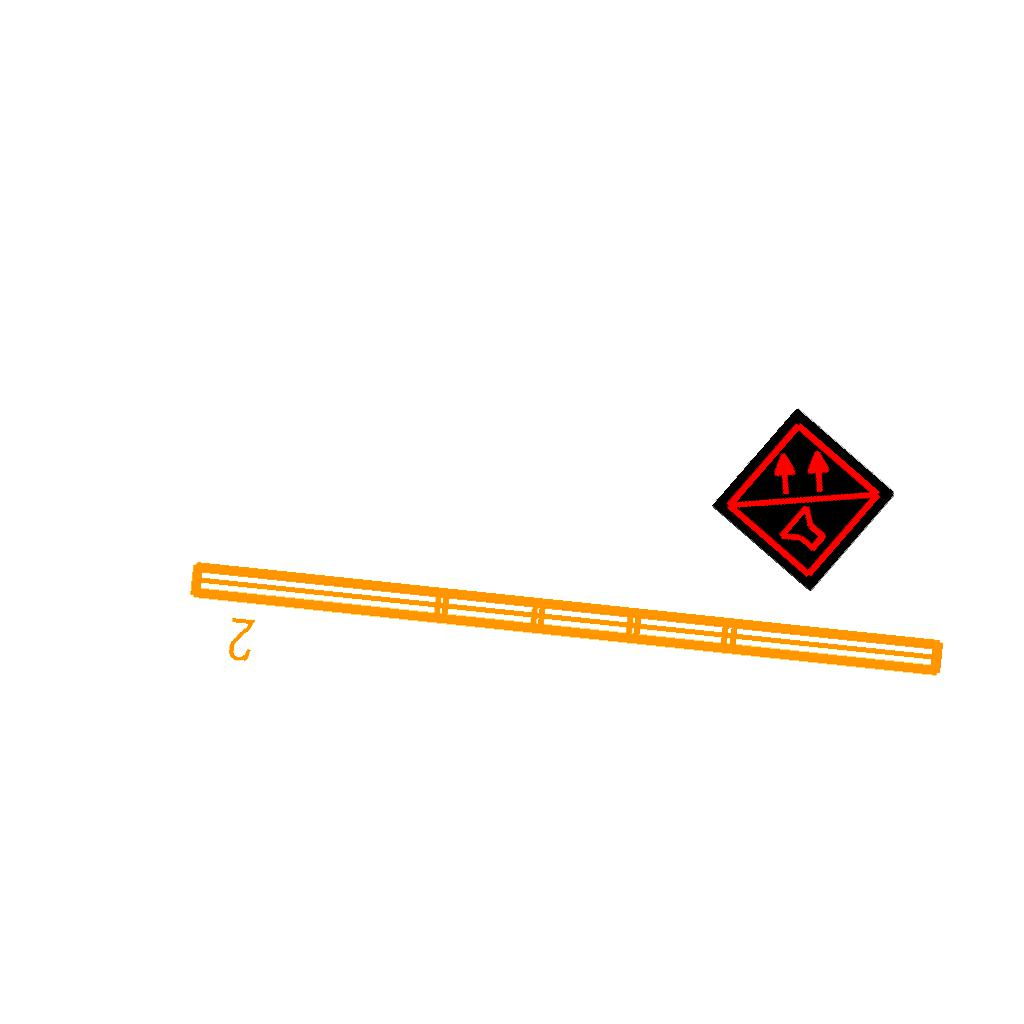Ambulanz_Pendelleuchte_LED: (174, 547, 956, 741)
OKW_Multisensormelder_(Kombination_optischer_Rauch-Kahlenmonoxid_Waerme-Melder): (710, 405, 898, 593)
